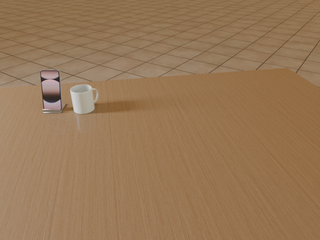cup: (71, 85, 98, 114)
phone: (40, 70, 62, 110)
